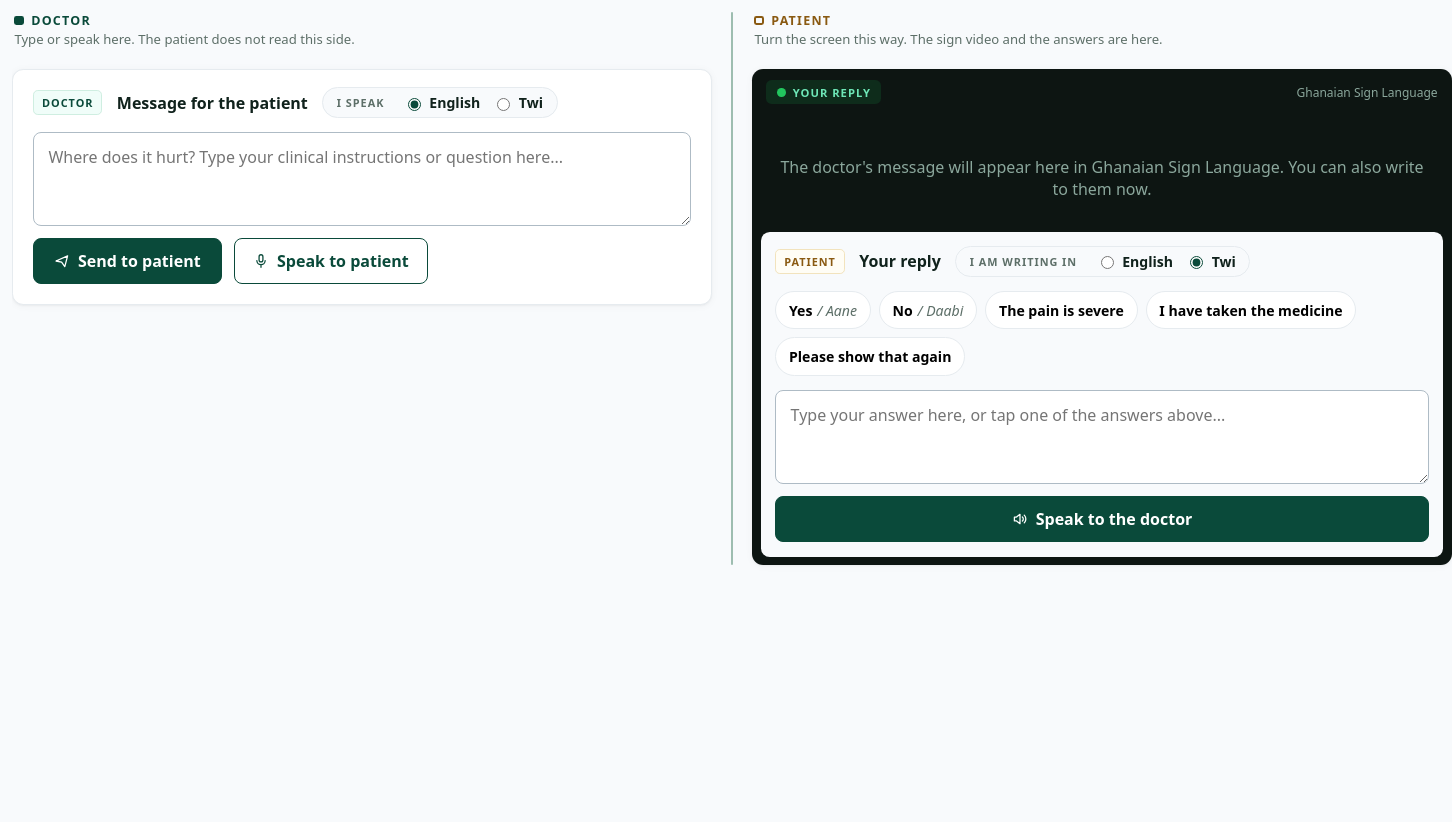
Test: DoctorConsultation › refuses a sentence whose negation has no sign, and says why
Type "no pain" into the text box named "message for the patient" at (362, 179), box [33,132,691,226]
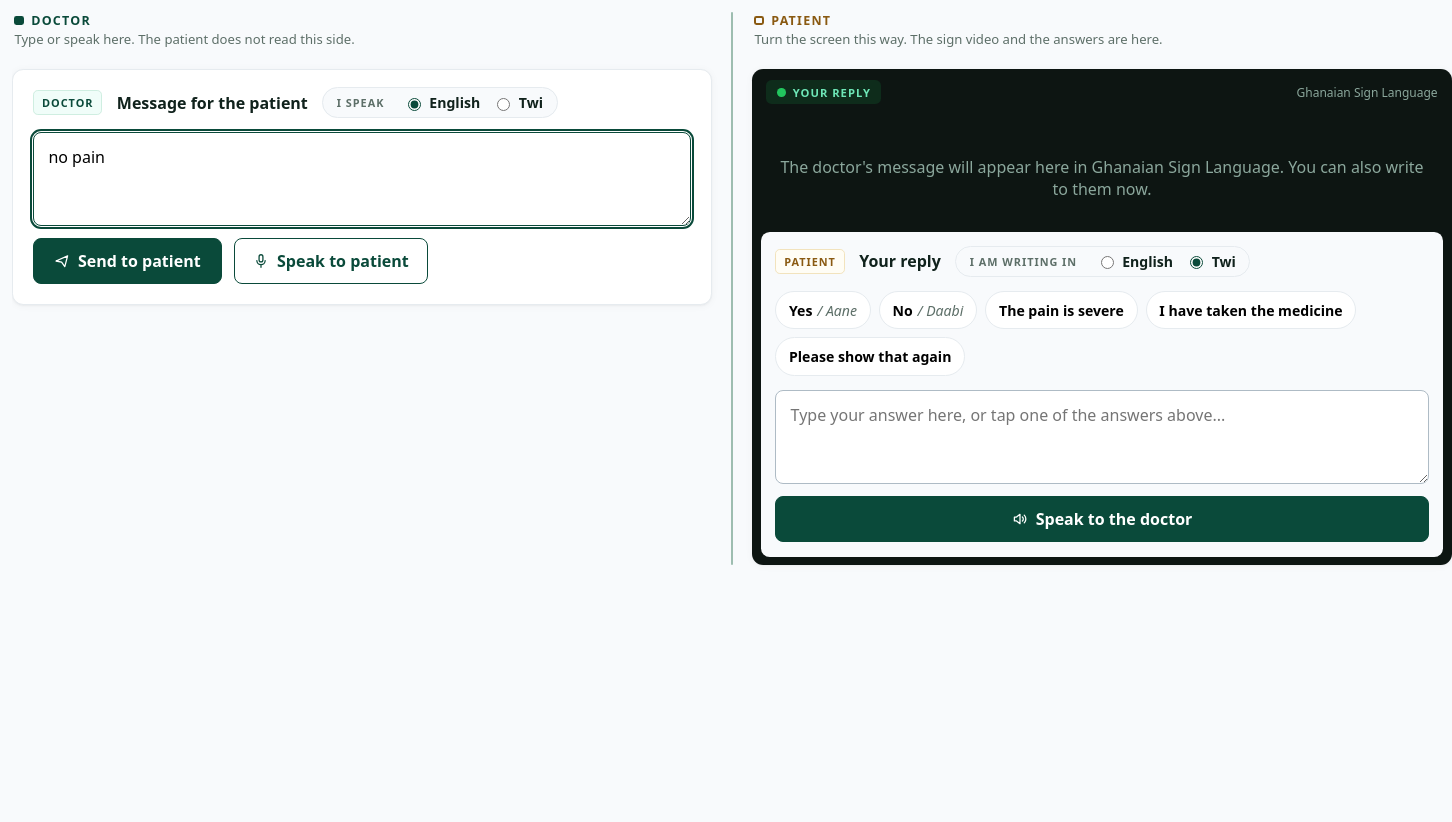
Click the button "Send to patient" at (127, 261), box [33,238,222,284]
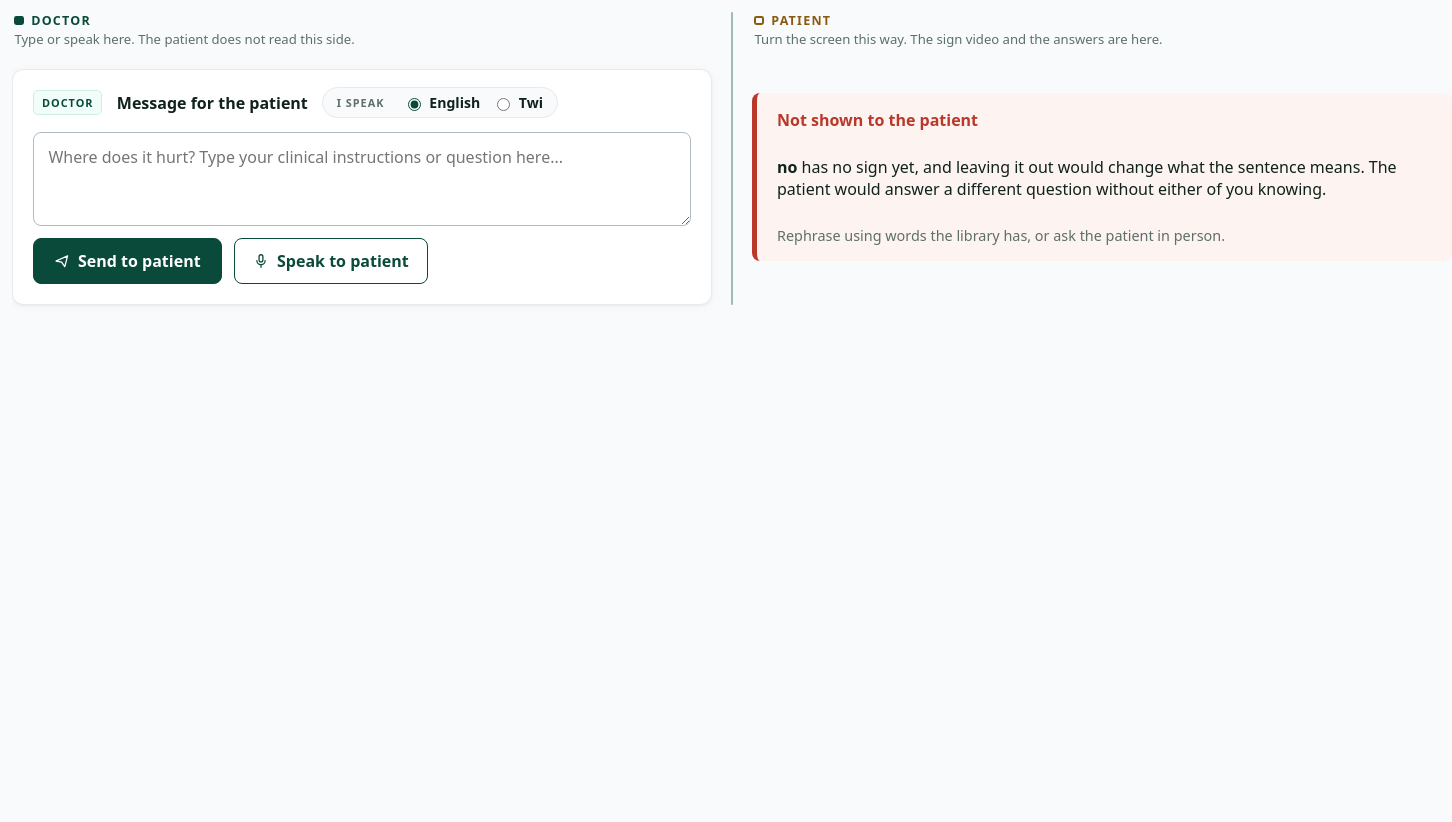
Result: the element with test id "refused-blocking" shows "no" at [777,156,797,178]
Result: the message with test id "utterance-refused" shows "change what the sentence means" at [777,156,1397,200]
